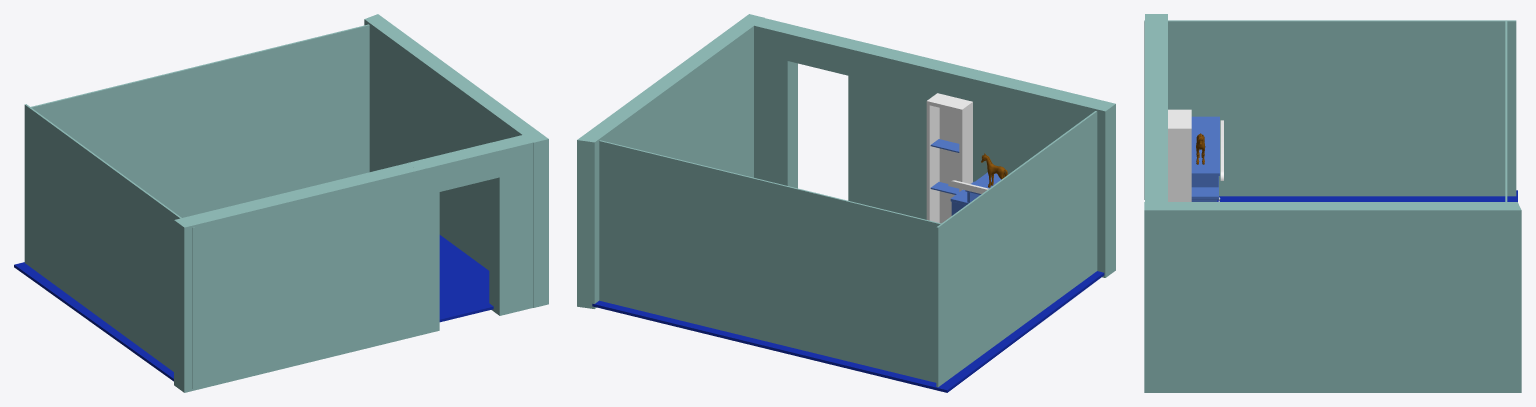
Rendered from homeRoomSmall.FBX.
3 views of the same model, side by side, from view 1: azimuth 30°, elevation 25°; view 2: azimuth 150°, elevation 25°; view 3: azimuth 270°, elevation 25° (orthographic). The views are drawn at different scales.
Parts seen in each view (by area): view 1: Line039, Box339, Box338, Line005, Line2093; view 2: Box339, Line039, Box338, Line005, Object016, Line2093, Object009, Box337; view 3: Line005, Box338, Line039, Object009, Object016, Line2093, Box339.
Boxes of the visible parts, x1,y1,x2,y2 form: Line039: (174,135,532,392); Box339: (29,24,369,217); Box338: (24,104,194,388); Line005: (364,14,548,307); Line2093: (14,235,493,381); Box339: (599,140,942,382); Line039: (754,18,1115,277); Box338: (936,111,1097,387); Line005: (577,14,764,308); Object016: (926,93,972,223); Line2093: (592,271,1104,392); Object009: (950,172,1001,215); Box337: (930,139,959,194); Line005: (1144,202,1521,392); Box338: (1144,20,1516,199); Line039: (1145,14,1167,201); Object009: (1191,116,1220,201); Object016: (1168,109,1191,201); Line2093: (1217,190,1517,201); Box339: (1505,21,1507,201).
Size of the model in its own units: 145 by 62.66 by 117.
